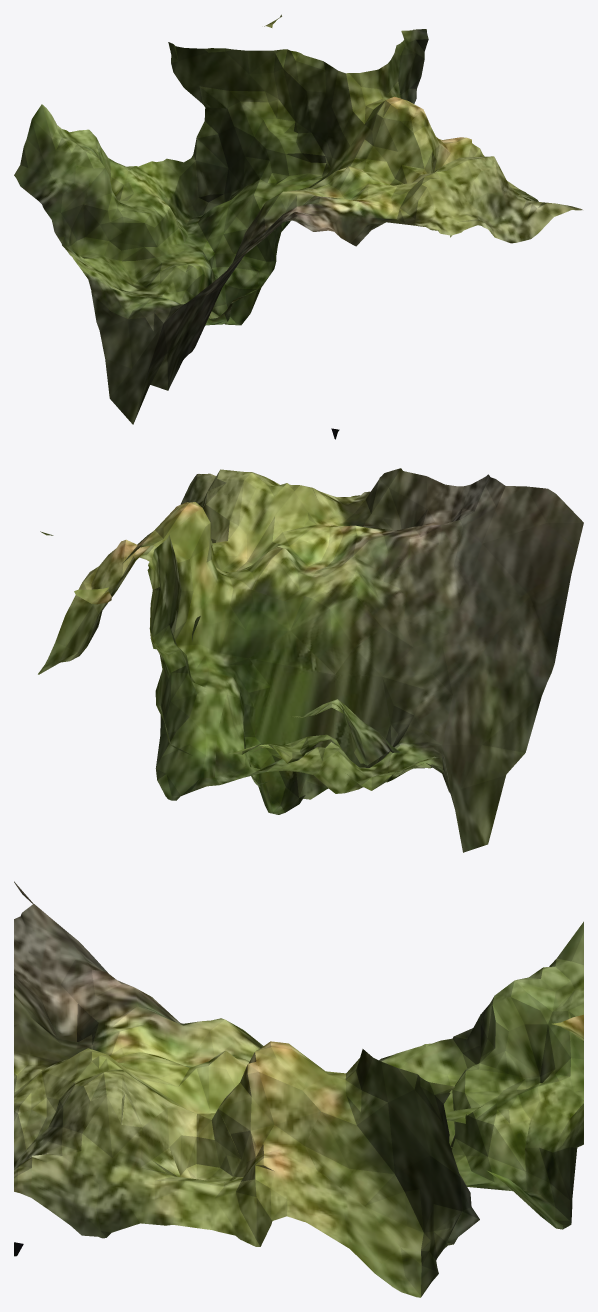
3 views of the same model, one above another, from view 1: azimuth 30°, elevation 25°; view 2: azimuth 150°, elevation 25°; view 3: azimuth 270°, elevation 25° (orthographic). The views are drawn at different scales.
Bounding box in the file's own units: 2.95 × 2.02 × 2.95.
4 materials, 4 textured.
